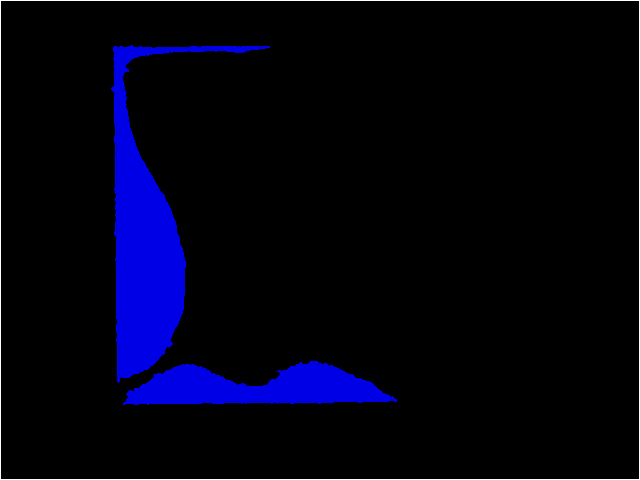defect: (111, 44, 271, 384), (122, 361, 399, 406)
